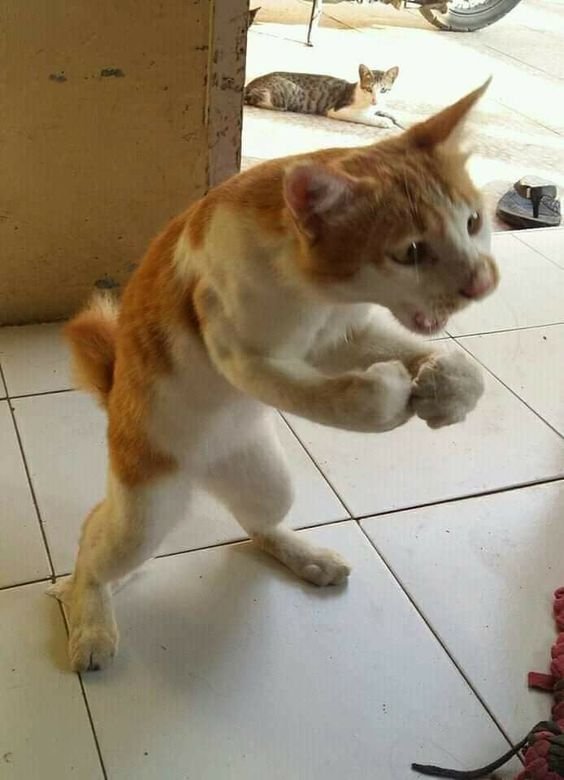cat: (62, 77, 486, 673), (243, 64, 409, 131)
